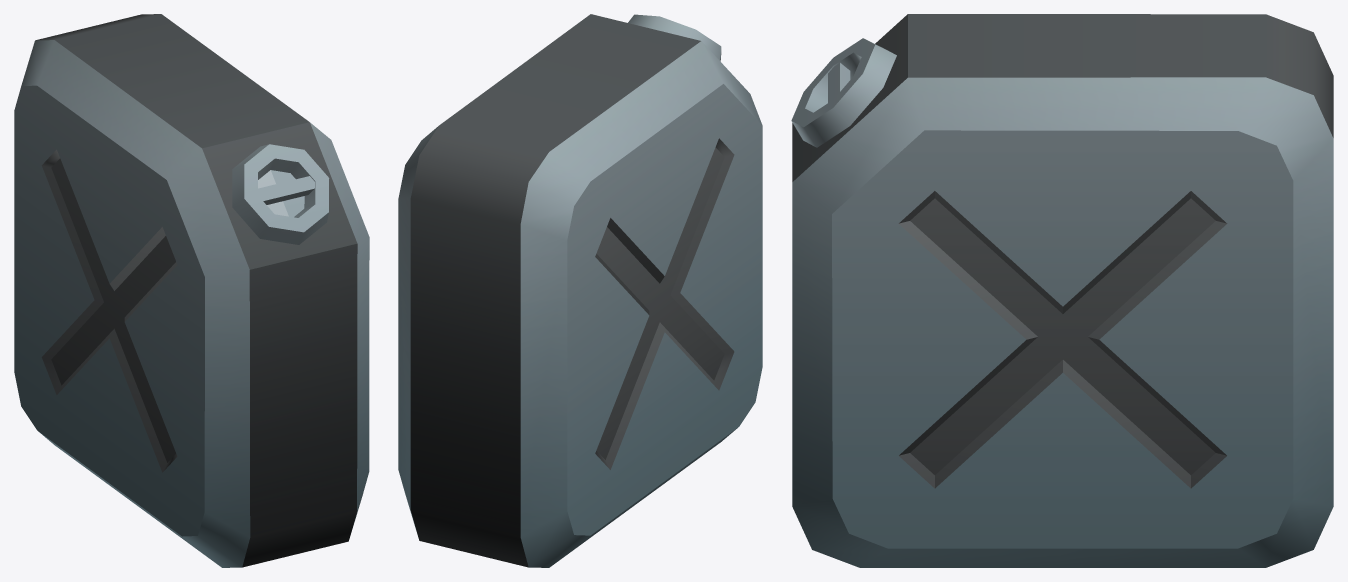
The model's file is Gas_can_007.glb.
3 renders of one model, left to right at view 1: azimuth 30°, elevation 25°; view 2: azimuth 150°, elevation 25°; view 3: azimuth 270°, elevation 25°, orthographic. The views are drawn at different scales.
Visible parts, largest first — view 1: Gas_can_007; view 2: Gas_can_007; view 3: Gas_can_007.
Boxes of the visible parts, x1,y1,x2,y2 form: Gas_can_007: (14,14,369,567); Gas_can_007: (398,14,762,567); Gas_can_007: (791,14,1333,567).
Bounding box in the file's own units: 0.212 × 0.5 × 0.4998.
1 material, 1 textured.
